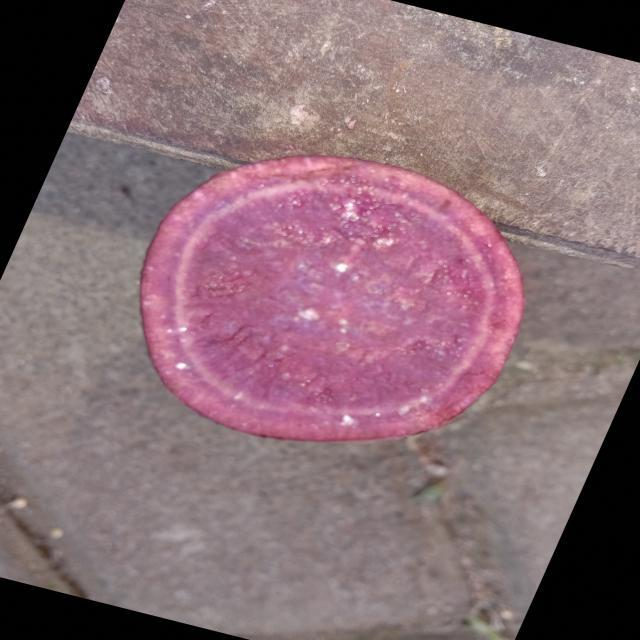Healthy Sweet Potato: (140, 156, 525, 441)
